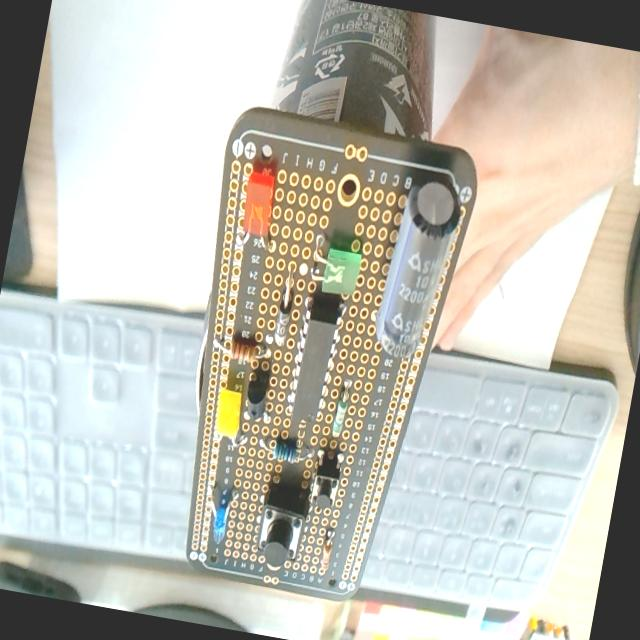Electrolytic capacitor: (368, 175, 464, 366)
IC: (281, 289, 349, 426)
diode: (272, 262, 300, 348)
led: (234, 166, 282, 252), (308, 232, 367, 298), (200, 483, 238, 548), (212, 386, 245, 441)
resistor: (210, 330, 271, 366), (331, 380, 352, 436), (270, 438, 298, 464), (318, 534, 334, 574)
switch: (254, 481, 312, 569), (308, 451, 344, 514)
transistor: (242, 372, 270, 422)
